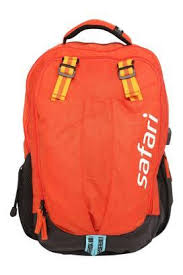backpack: (9, 18, 173, 256)
